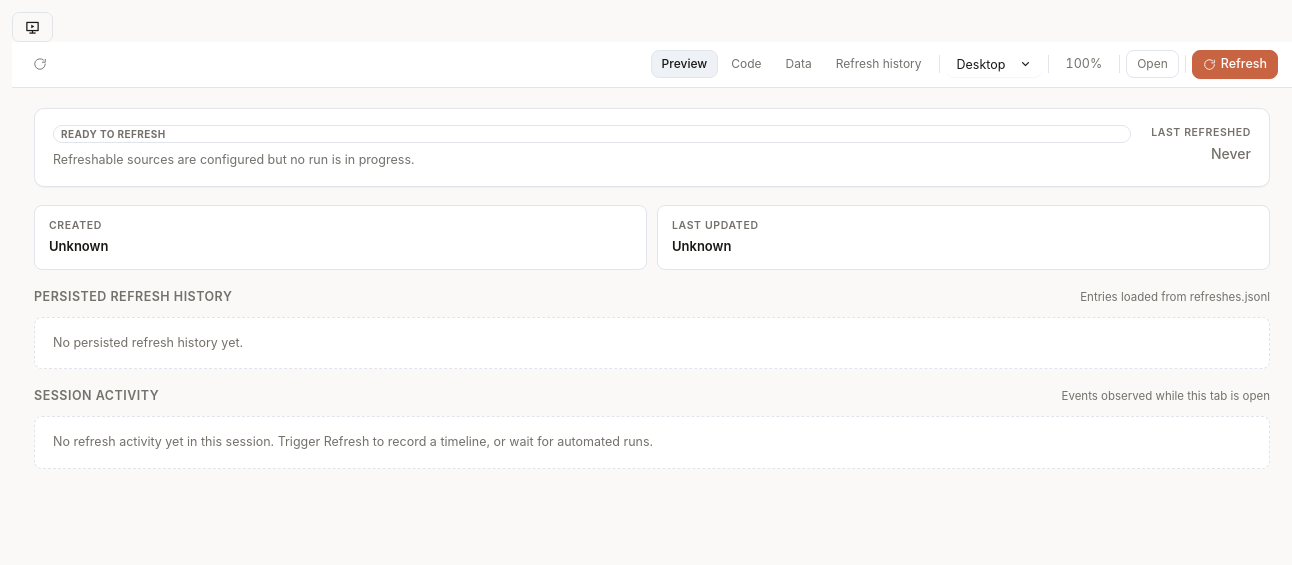
Test: LiveArtifactViewer › closes the present menu on Escape without tearing down the viewer
Step 1. Click the button named "present" → point(32, 27), box top-left (12, 12), bottom-right (53, 42)
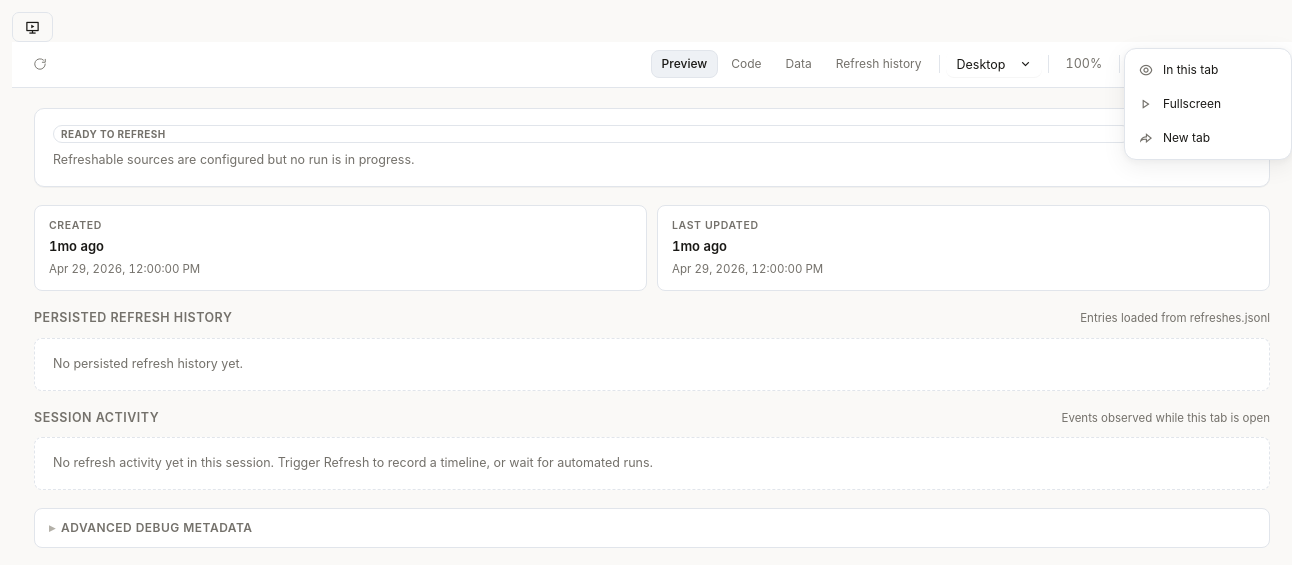
Check: the menu item "New tab" is shown, box top-left (1129, 121), bottom-right (1287, 155)
Step 2. Press Escape
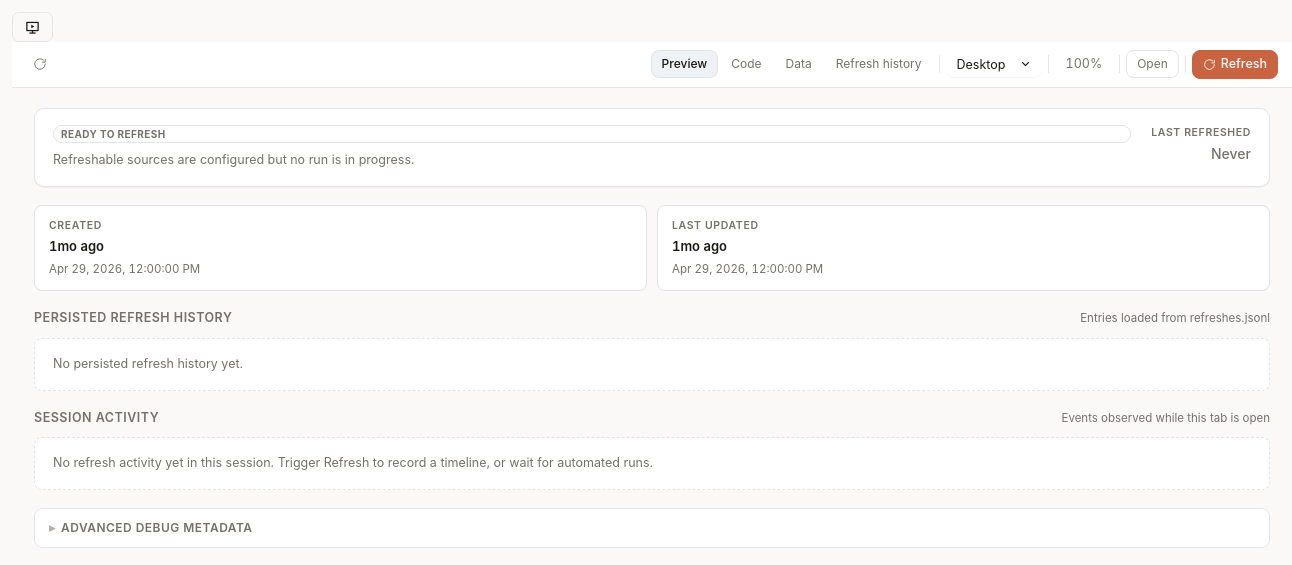
Check: the button named "present" is shown, box top-left (12, 12), bottom-right (53, 42)
Check: the menu item "New tab" is gone
